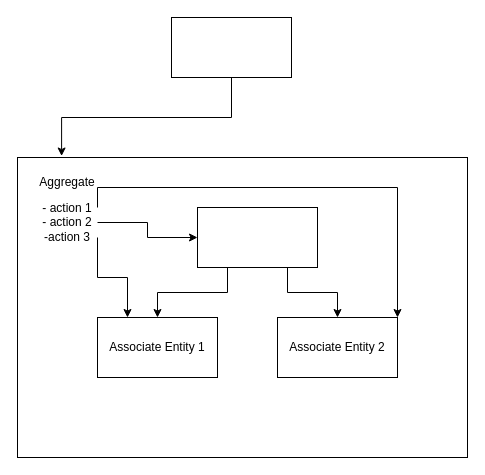
Some shapes in this 485 by 475 pixel diagram are drawn without their labels. Here are the shapes that lost their labels. From the top down, the box of each, then its label:
(170, 16, 292, 78): Outside object
(196, 206, 318, 268): Root Entity
